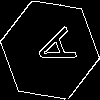A: (25, 25, 77, 74)
